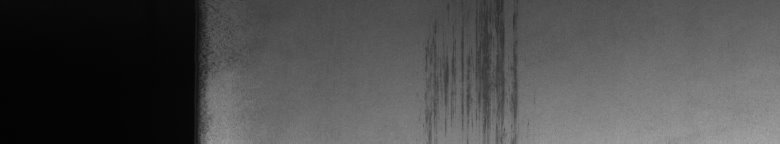ka: (429, 14, 520, 136)
